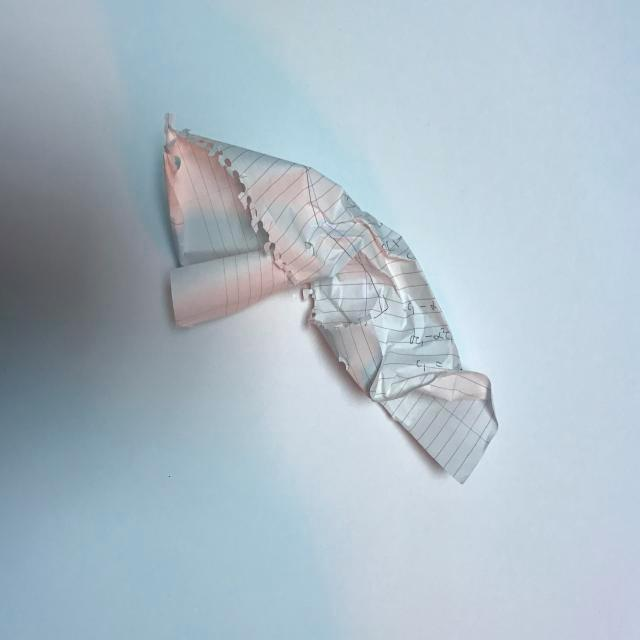paper: (137, 87, 504, 535)
